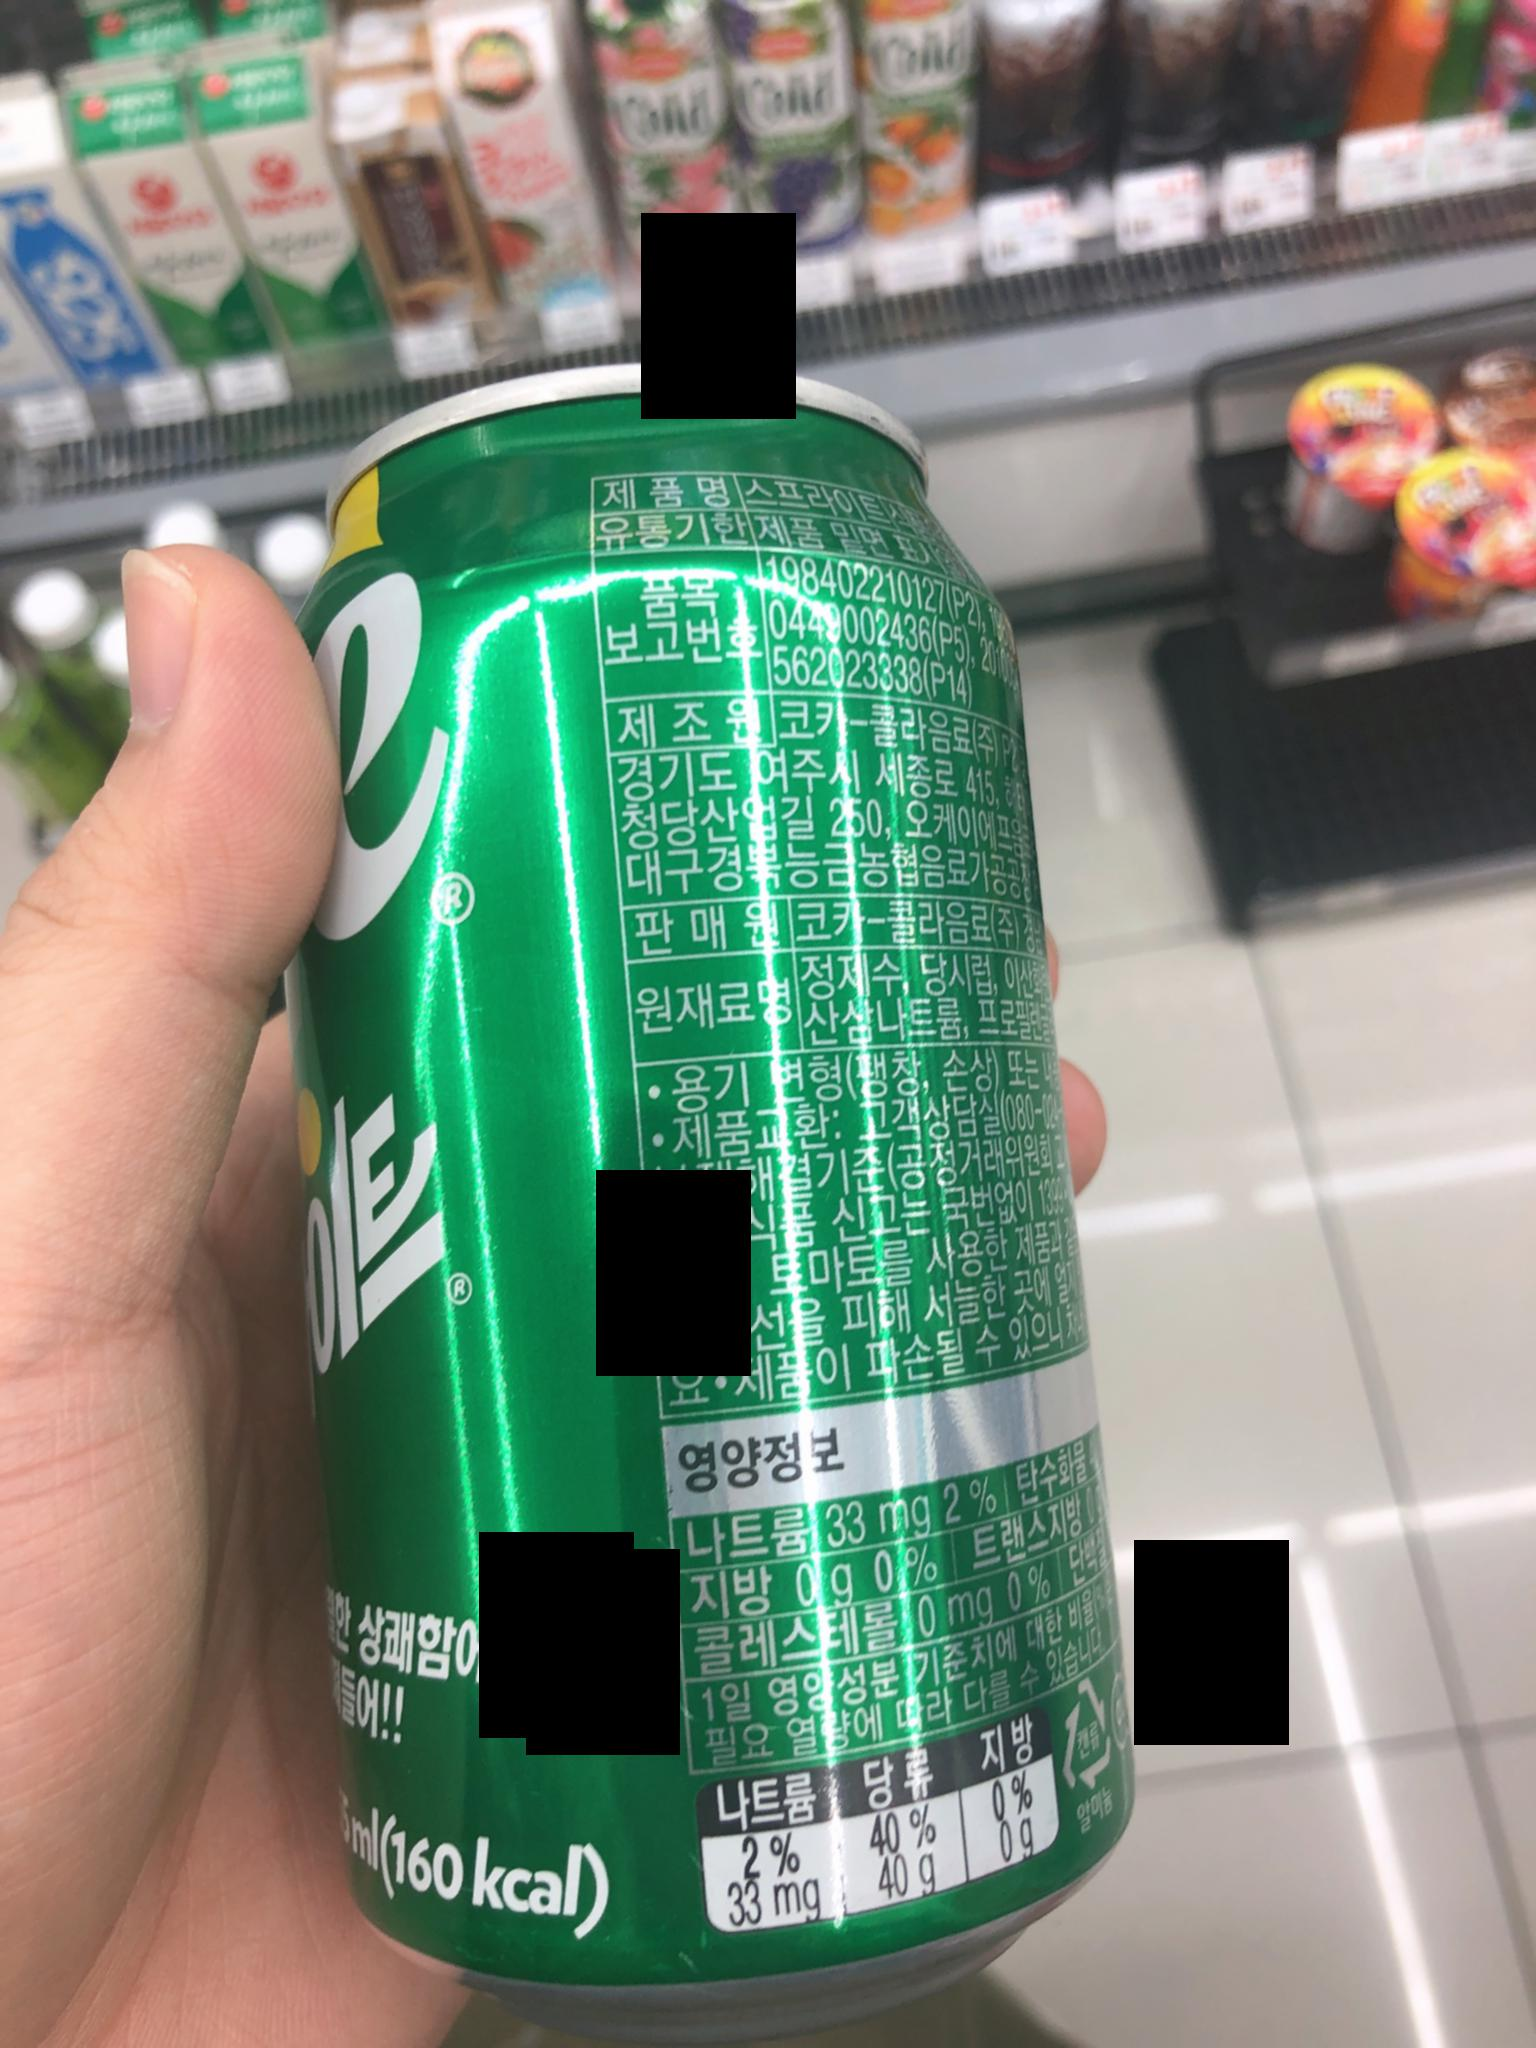sprite: (252, 405, 1167, 2027)
